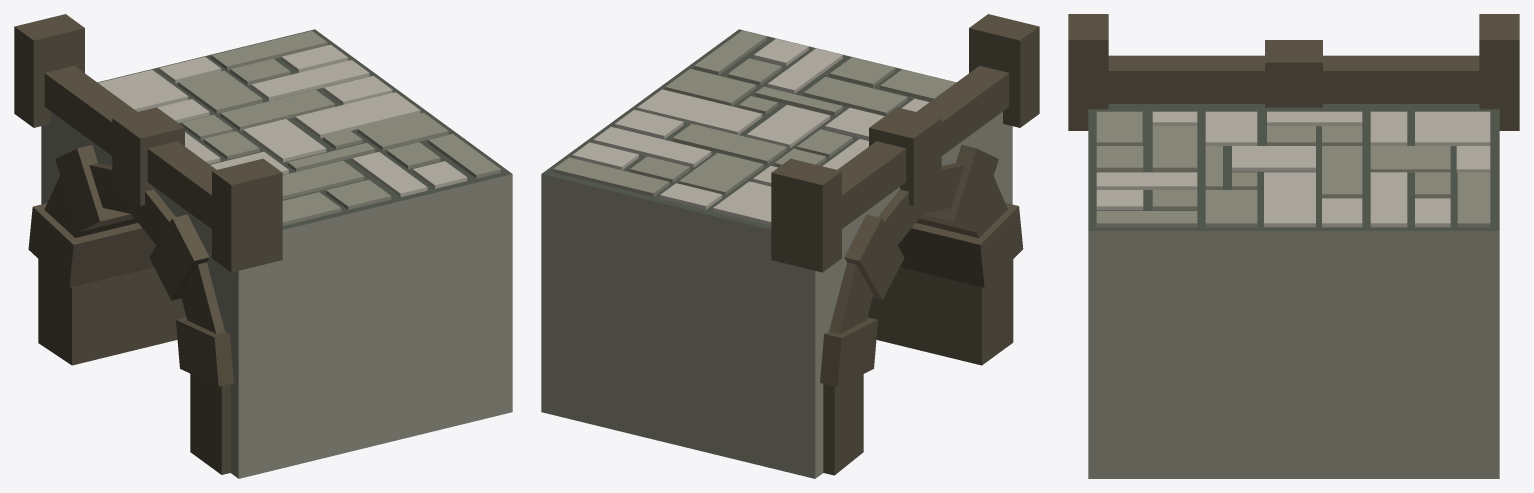
The model's file is ThreeWayFilled.fbx.
3 views of the same model, side by side, from view 1: azimuth 30°, elevation 25°; view 2: azimuth 150°, elevation 25°; view 3: azimuth 270°, elevation 25° (orthographic). The views are drawn at different scales.
Visible parts, largest first — view 1: Stone Bridge - Three-way Filled; view 2: Stone Bridge - Three-way Filled; view 3: Stone Bridge - Three-way Filled.
Boxes of the visible parts, x1=… form: Stone Bridge - Three-way Filled: x1=14, y1=14, x2=512, y2=478; Stone Bridge - Three-way Filled: x1=541, y1=14, x2=1039, y2=478; Stone Bridge - Three-way Filled: x1=1068, y1=14, x2=1519, y2=478.
Size of the model in its own units: 85.12 by 85.16 by 110.
